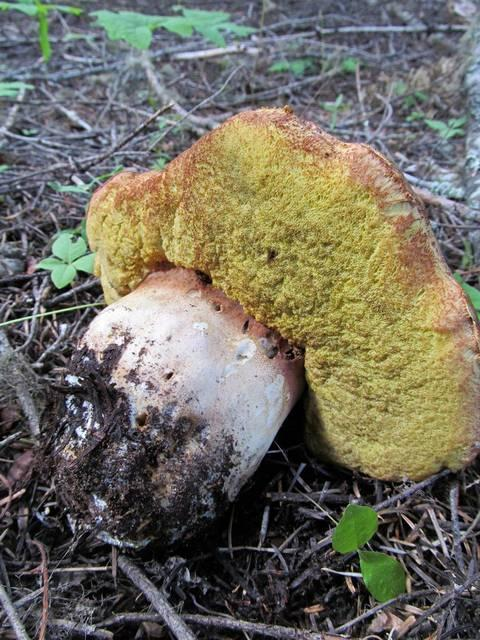Edible Mushroom: (54, 103, 479, 544)
